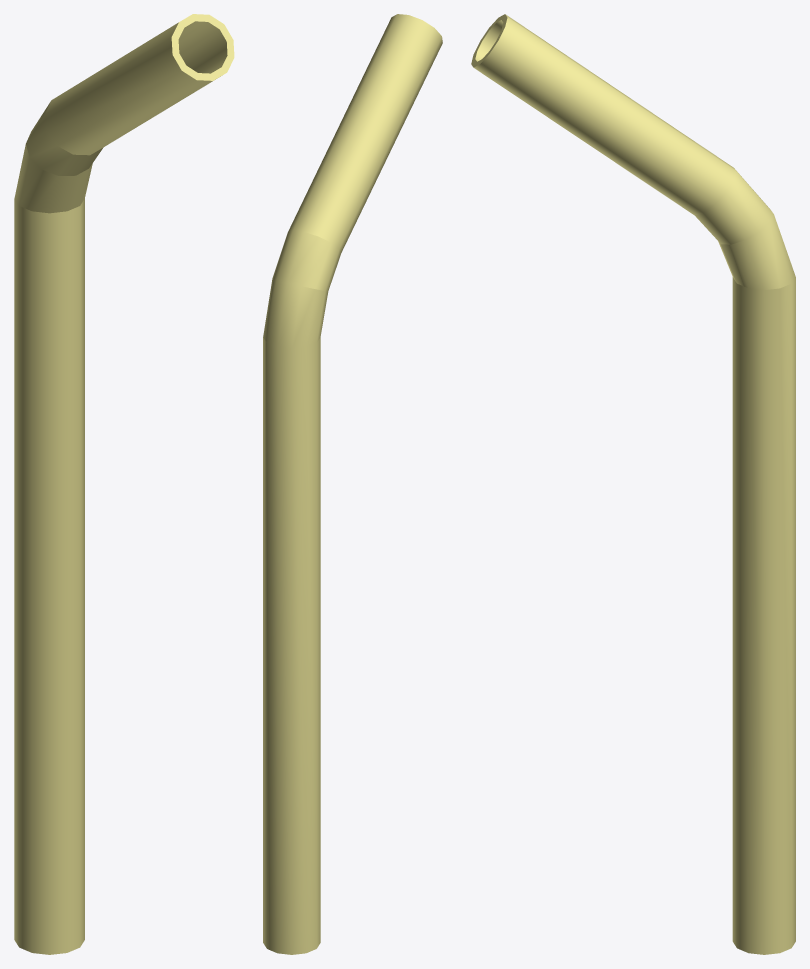
The model's file is plasticstraw.fbx.
3 views of the same model, side by side, from view 1: azimuth 30°, elevation 25°; view 2: azimuth 150°, elevation 25°; view 3: azimuth 270°, elevation 25° (orthographic). The views are drawn at different scales.
Parts seen in each view (by area): view 1: Straw; view 2: Straw; view 3: Straw.
Part boxes in pixels (left/top/right/bottom): Straw: left=14, top=14, right=234, bottom=954; Straw: left=263, top=14, right=442, bottom=954; Straw: left=471, top=14, right=795, bottom=954.
Bounding box in the file's own units: 200 × 3234 × 1030.
